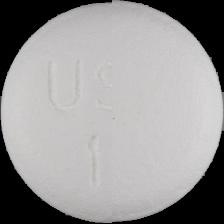0781-1526: (0, 0, 224, 224)
